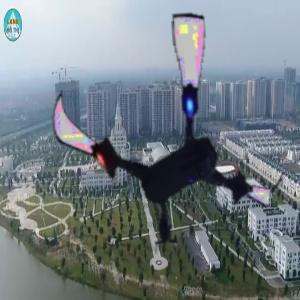drone: (39, 13, 287, 261)
